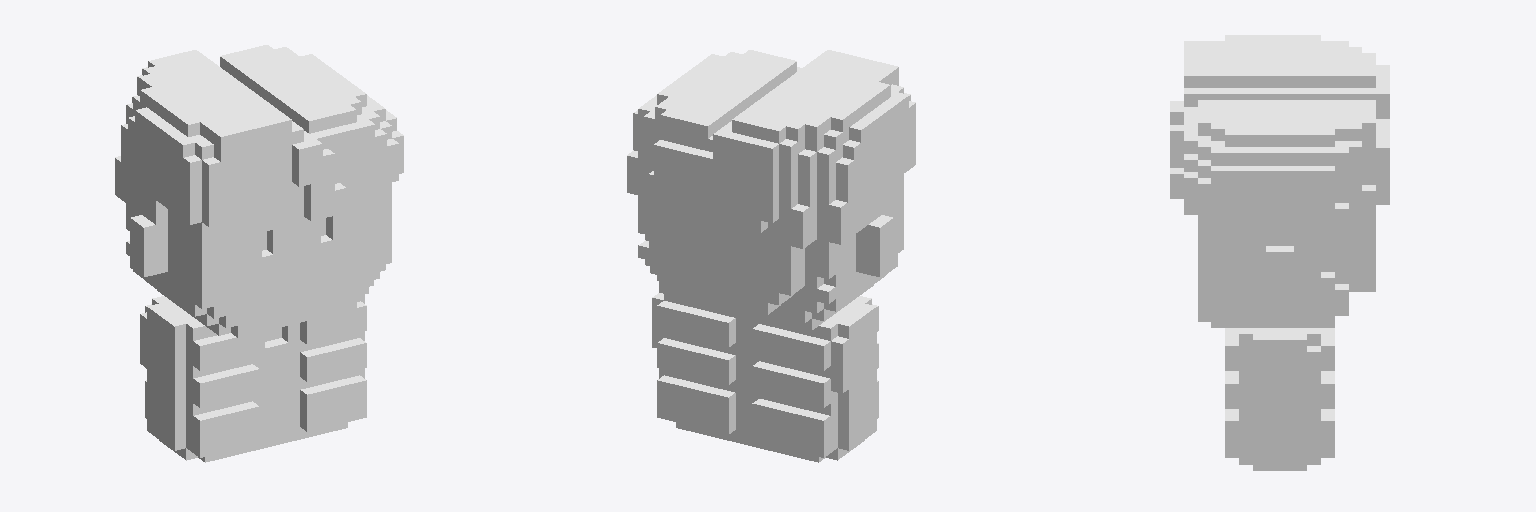
File: dad-10-body.obj
The picture shows the model from 3 angles: view 1: azimuth 30°, elevation 25°; view 2: azimuth 150°, elevation 25°; view 3: azimuth 270°, elevation 25°; orthographic projection.
Parts seen in each view (by area): view 1: body; view 2: body; view 3: body.
Boxes of the visible parts, box(x1,y1,x2,y2) form: body: box(115, 45, 403, 462); body: box(627, 50, 915, 462); body: box(1170, 35, 1389, 470).
Bounding box in the file's own units: 2 × 2.8 × 1.6.